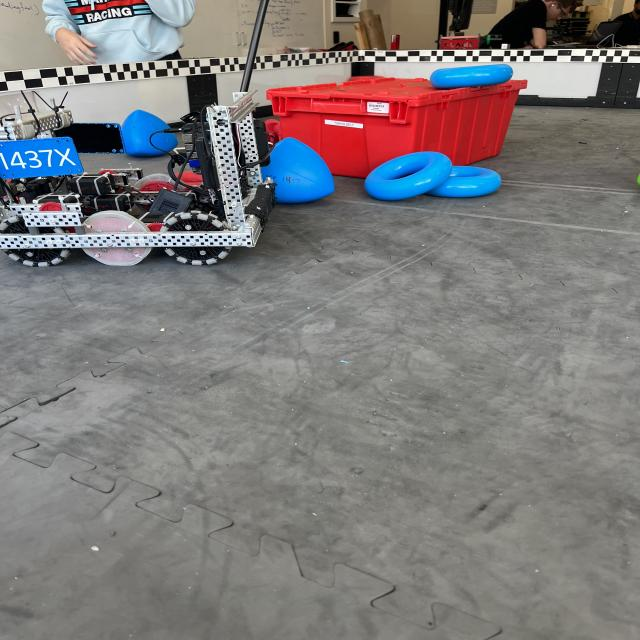Blue-Ring: (365, 151, 452, 200), (425, 166, 502, 198), (430, 64, 513, 89)
